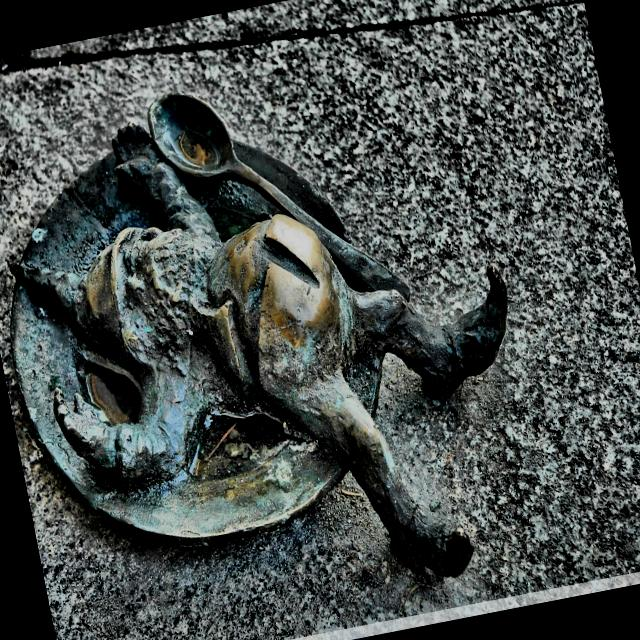Obiezysmak: (8, 94, 509, 580)
